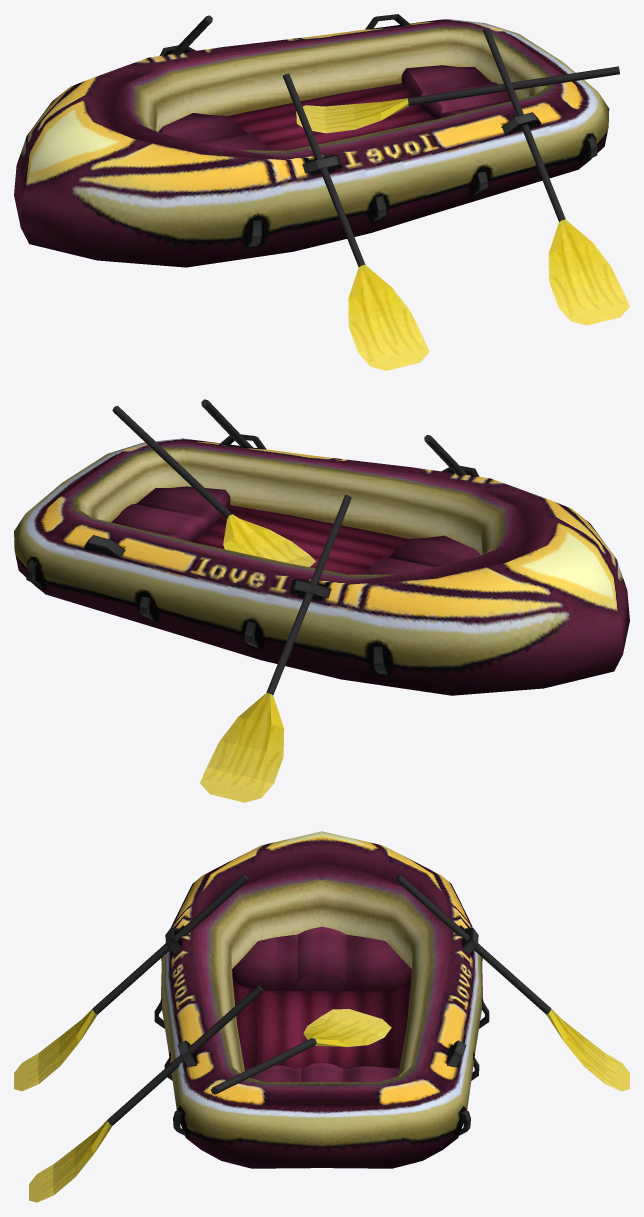
The model's file is furni_0201017.FBX.
3 views of the same model, one above another, from view 1: azimuth 30°, elevation 25°; view 2: azimuth 150°, elevation 25°; view 3: azimuth 270°, elevation 25° (orthographic). The views are drawn at different scales.
Parts seen in each view (by area): view 1: furni_0201017; view 2: furni_0201017; view 3: furni_0201017.
Part boxes in pixels (x1,y1,x2,y2): furni_0201017: [14, 14, 629, 370]; furni_0201017: [14, 399, 629, 802]; furni_0201017: [14, 831, 629, 1202].
Size of the model in its own units: 493 by 187 by 481.
Materials: 1 (1 with a texture image).
